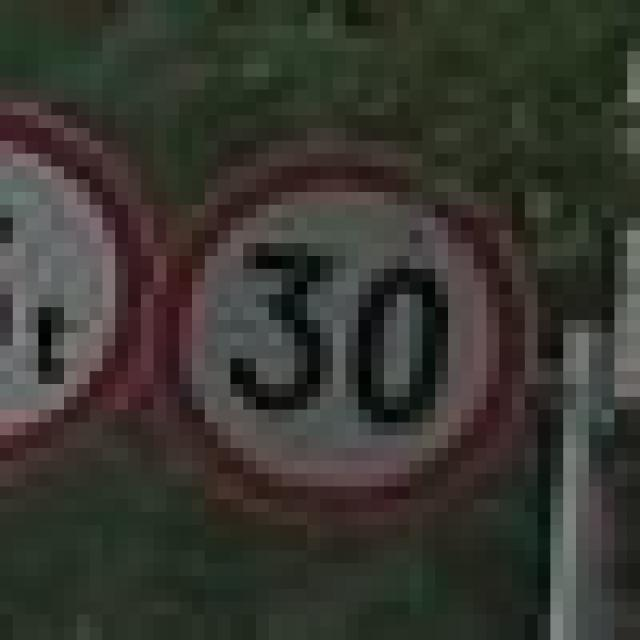SPEED_LIMIT_30: (141, 115, 525, 499)
